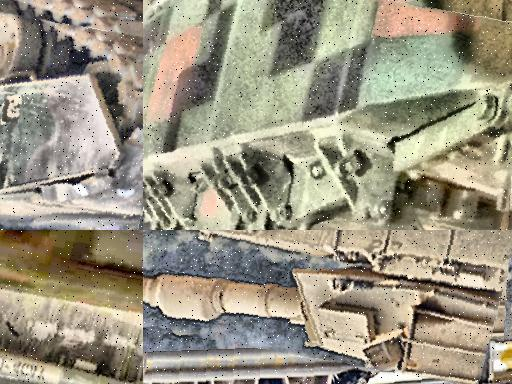tanks: (144, 1, 512, 231), (144, 231, 512, 384), (1, 12, 144, 231), (1, 231, 144, 384)
